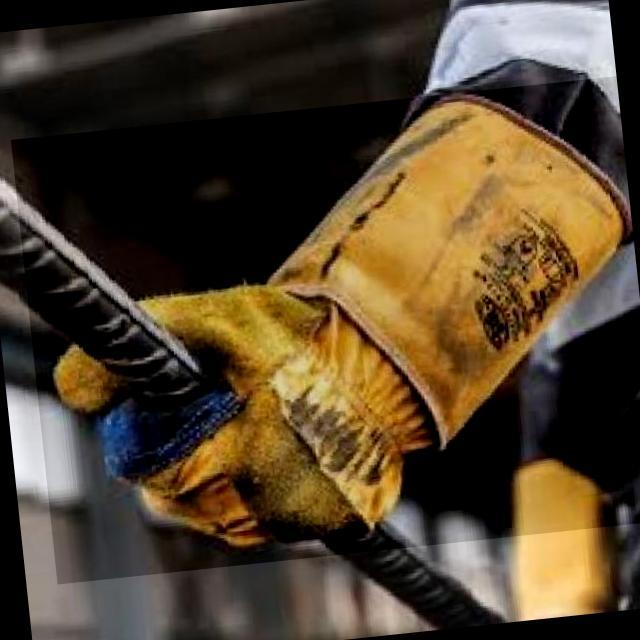Gloves: (10, 76, 640, 584)
